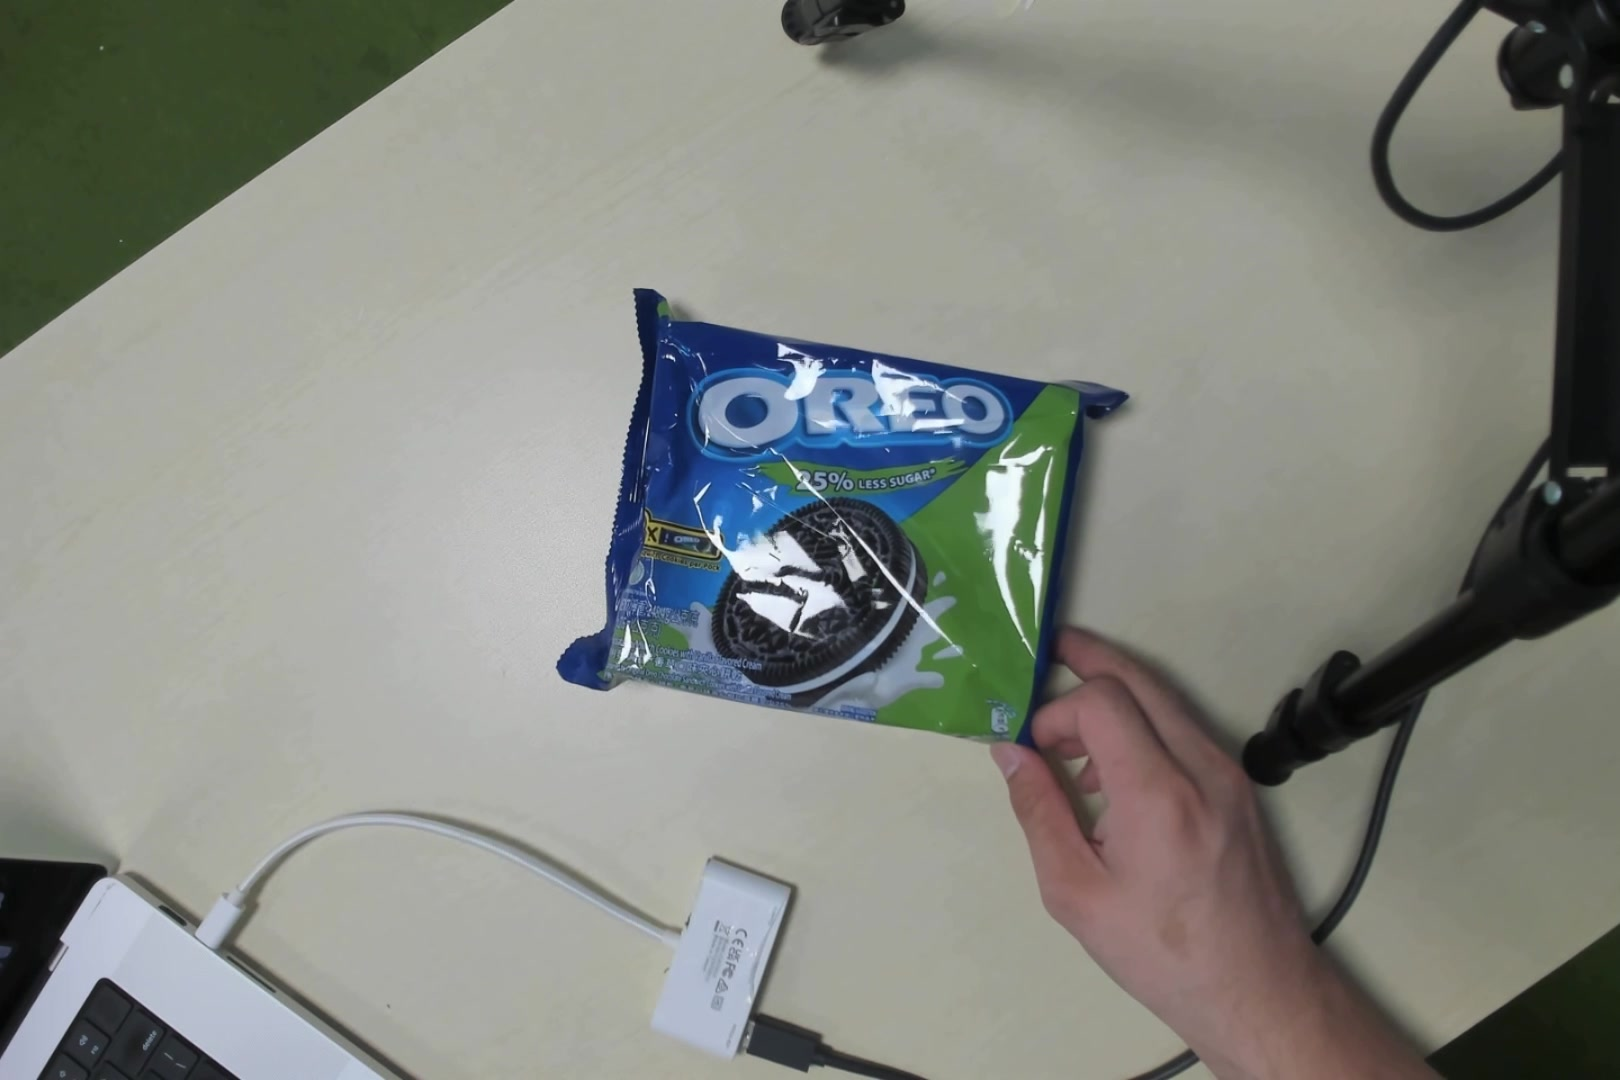SweetsChocolatesOthers_200-299g_Halal_NonHealthy: (595, 304, 1100, 742)
